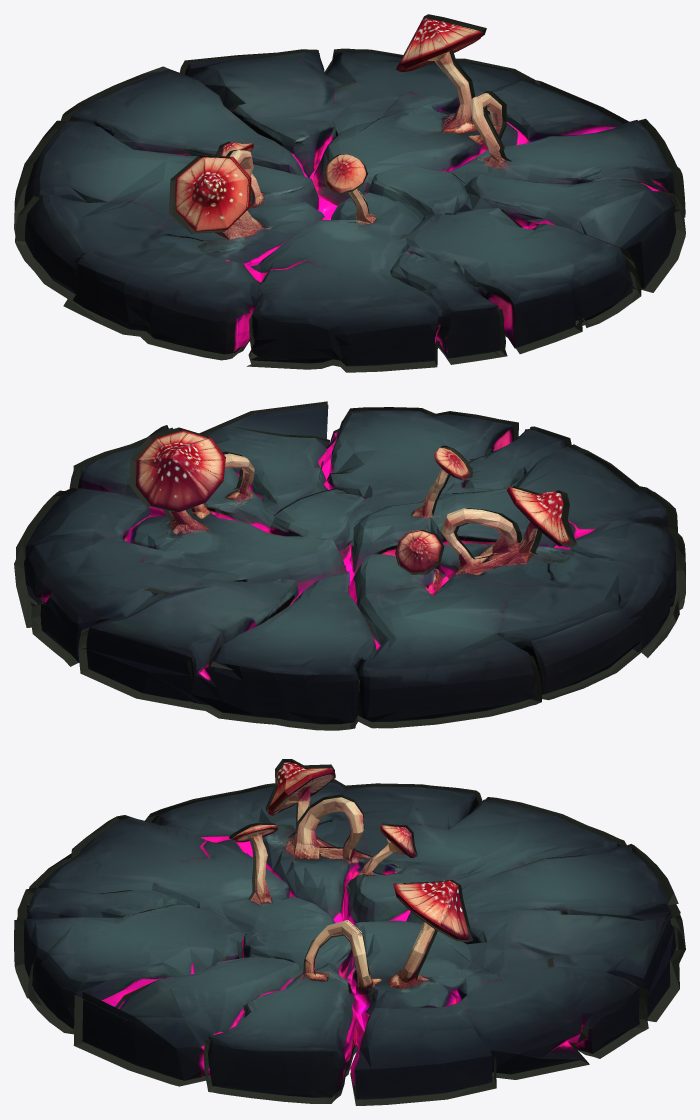
File: df_v2_content_plot_marker_a.glb
3 renders of one model, top to bottom at view 1: azimuth 30°, elevation 25°; view 2: azimuth 150°, elevation 25°; view 3: azimuth 270°, elevation 25°, orthographic.
Parts seen in each view (by area): view 1: content_plot_marker_mesh_01, content_plot_marker_mesh_01_ink_outline; view 2: content_plot_marker_mesh_01, content_plot_marker_mesh_01_ink_outline; view 3: content_plot_marker_mesh_01, content_plot_marker_mesh_01_ink_outline.
Part boxes in pixels (x1,y1,x2,y2): content_plot_marker_mesh_01: (24, 18, 676, 366); content_plot_marker_mesh_01_ink_outline: (14, 14, 685, 372); content_plot_marker_mesh_01: (24, 404, 676, 724); content_plot_marker_mesh_01_ink_outline: (14, 401, 685, 730); content_plot_marker_mesh_01: (24, 762, 676, 1099); content_plot_marker_mesh_01_ink_outline: (14, 759, 685, 1105).
Bounding box in the file's own units: 2.27 × 0.5532 × 2.27.
Materials: 2 (1 with a texture image).
